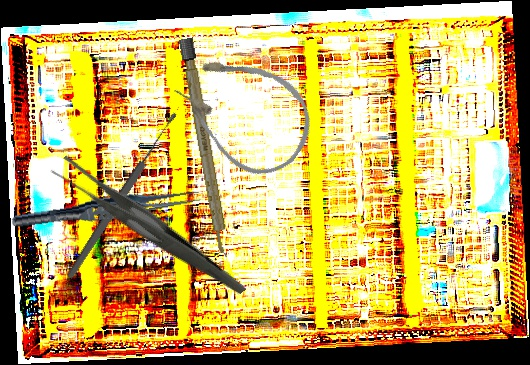Cannula: (158, 30, 330, 192)
Dressing Forceps: (48, 117, 247, 341)
Scalpel Handle: (178, 37, 232, 259)
Surgical Spoon: (64, 109, 181, 282)
Tissue Forceps: (10, 182, 205, 236)
